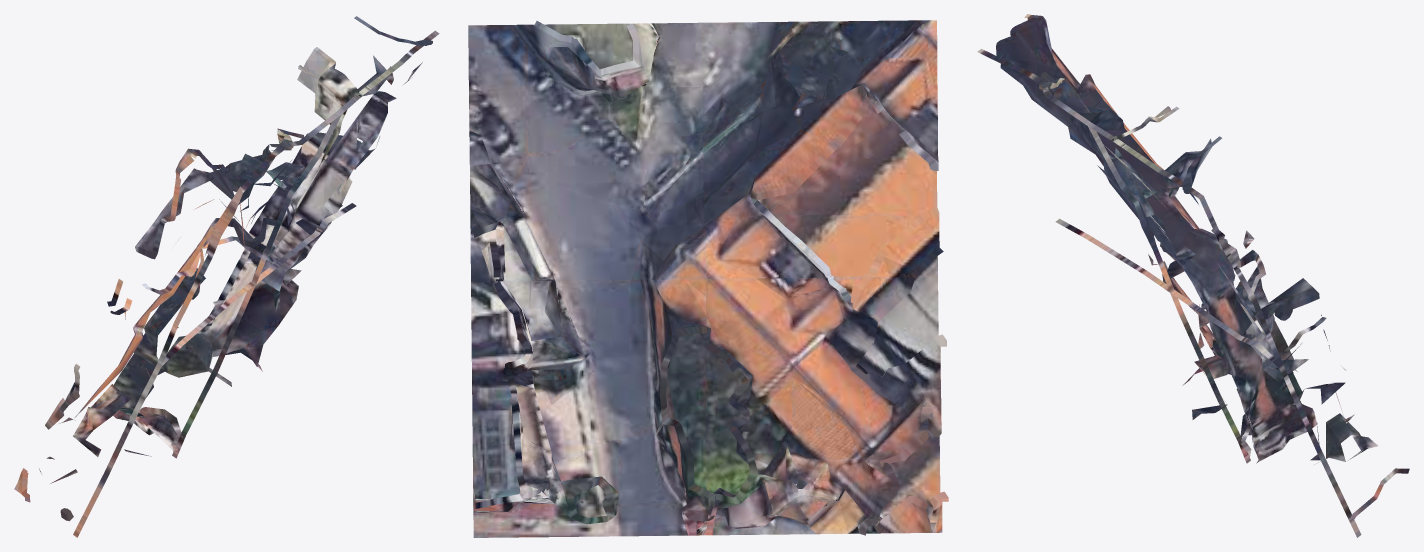
The picture shows the model from 3 angles, left to right: view 1: azimuth 30°, elevation 25°; view 2: azimuth 150°, elevation 25°; view 3: azimuth 270°, elevation 25°; orthographic projection. The views are drawn at different scales.
Size of the model in its own units: 40.56 by 37.64 by 35.95.
2 materials, 2 textured.
